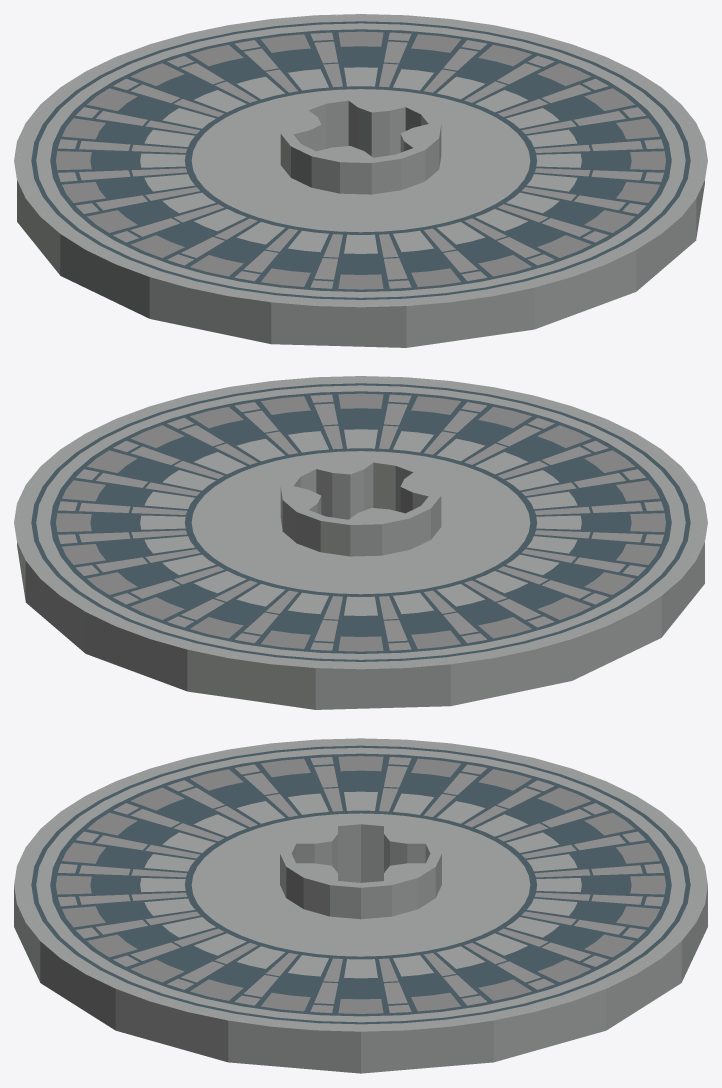
3 views of the same model, one above another, from view 1: azimuth 30°, elevation 25°; view 2: azimuth 150°, elevation 25°; view 3: azimuth 270°, elevation 25° (orthographic).
Visible parts, largest first — view 1: world; view 2: world; view 3: world.
Boxes of the visible parts, left/top/right/bottom form: world: left=14, top=14, right=707, bottom=347; world: left=14, top=376, right=707, bottom=709; world: left=14, top=738, right=707, bottom=1073.
Bounding box in the file's own units: 0.024 × 0.004 × 0.024.
